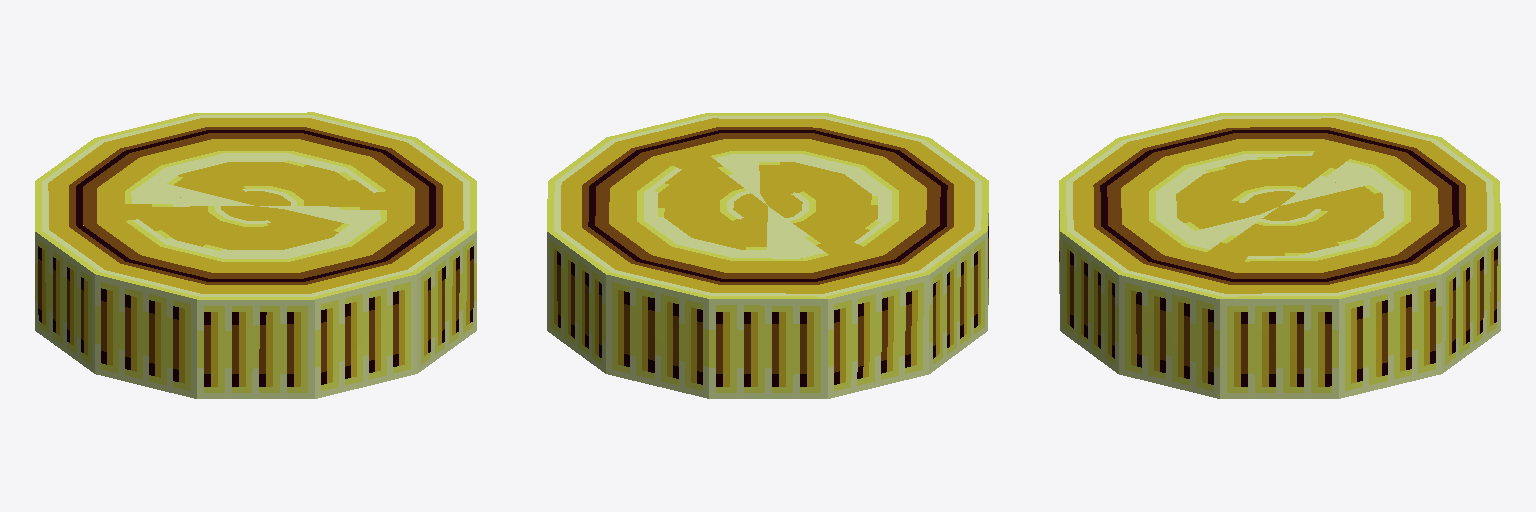
3 renders of one model, left to right at view 1: azimuth 30°, elevation 25°; view 2: azimuth 150°, elevation 25°; view 3: azimuth 270°, elevation 25°, orthographic.
Parts seen in each view (by area): view 1: cylinder; view 2: cylinder; view 3: cylinder.
Part boxes in pixels (x1,y1,x2,y2): cylinder: (35, 112, 476, 398); cylinder: (547, 113, 988, 398); cylinder: (1059, 113, 1500, 398).
Bounding box in the file's own units: 0.1253 × 0.0312 × 0.1253.
1 materials, 1 textured.